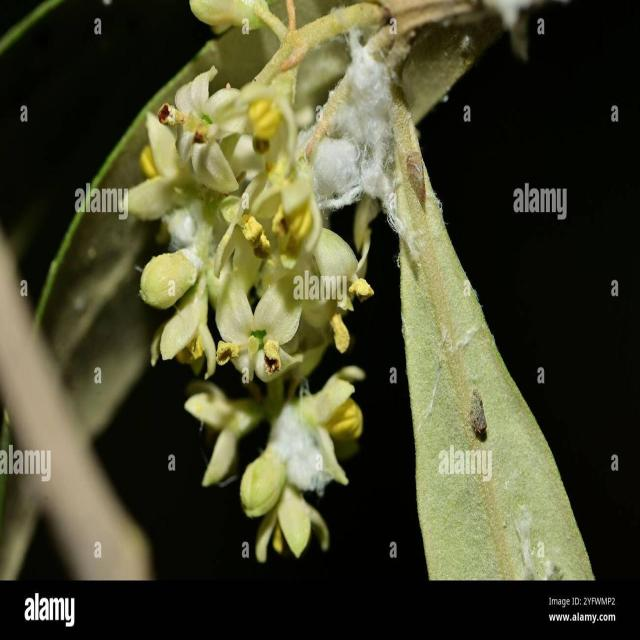Psyllid: (312, 44, 420, 273), (264, 376, 354, 493), (162, 199, 225, 271), (406, 151, 426, 210)
